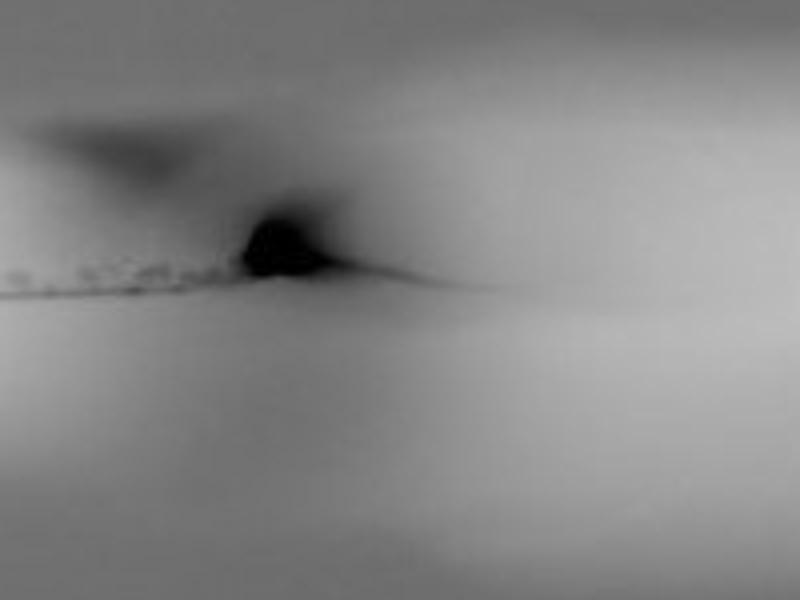defect: (243, 209, 324, 290)
